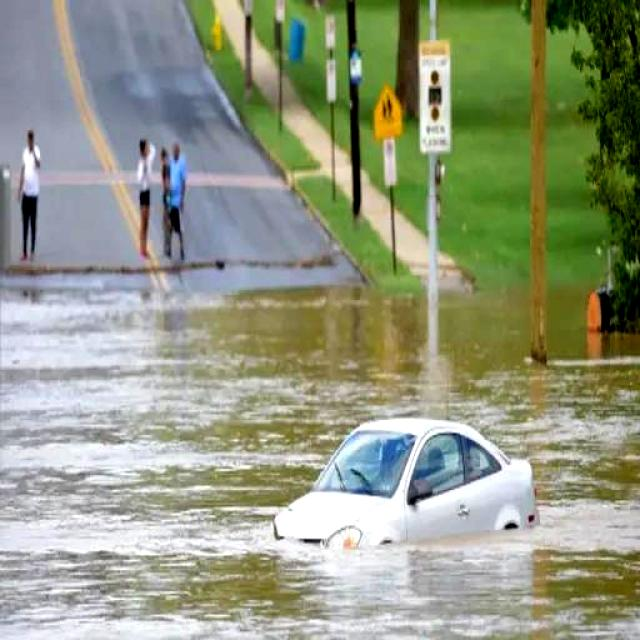civilian: (8, 115, 68, 278), (158, 133, 201, 279), (126, 124, 162, 274), (156, 138, 174, 214)
